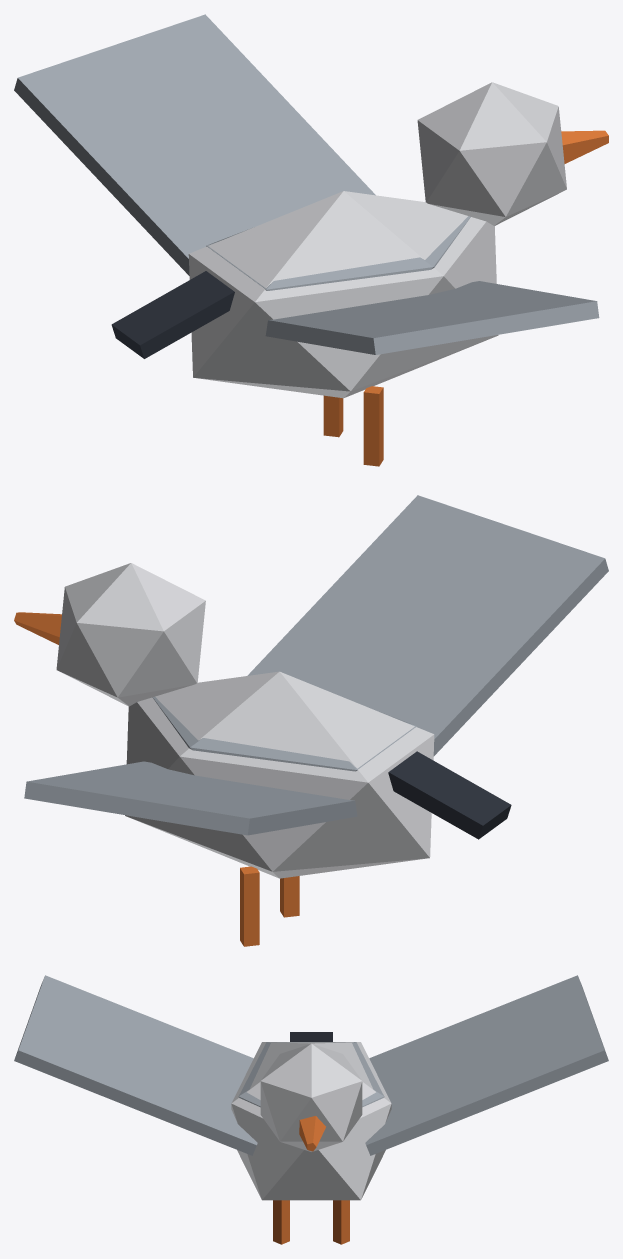
The model's file is gull_b.glb.
3 renders of one model, top to bottom at view 1: azimuth 30°, elevation 25°; view 2: azimuth 150°, elevation 25°; view 3: azimuth 270°, elevation 25°, orthographic. The views are drawn at different scales.
Visible parts, largest first — view 1: gull_b; view 2: gull_b; view 3: gull_b.
Boxes of the visible parts, box(x1,y1,x2,y2) form: gull_b: box(14, 14, 608, 466); gull_b: box(14, 495, 608, 946); gull_b: box(14, 975, 608, 1244).
Size of the model in its own units: 1.18 by 0.7776 by 1.69.
